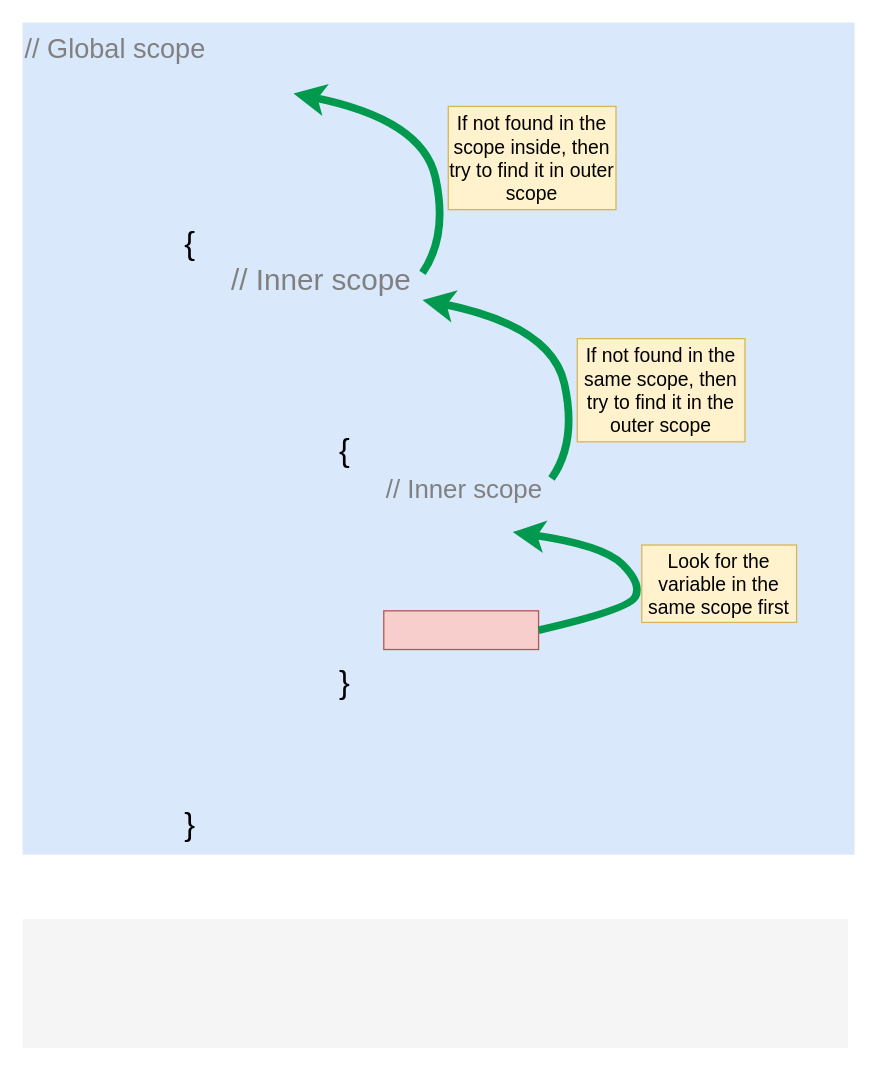
This 876x1069 diagram has some shape labels left out. The box of each missing label's shape, as (x1, y1, x2, y2) in pixels:
The search continues until it reaches the most outer scope (global scope): (22, 918, 848, 1047)
Variable usage here: (382, 610, 539, 650)
